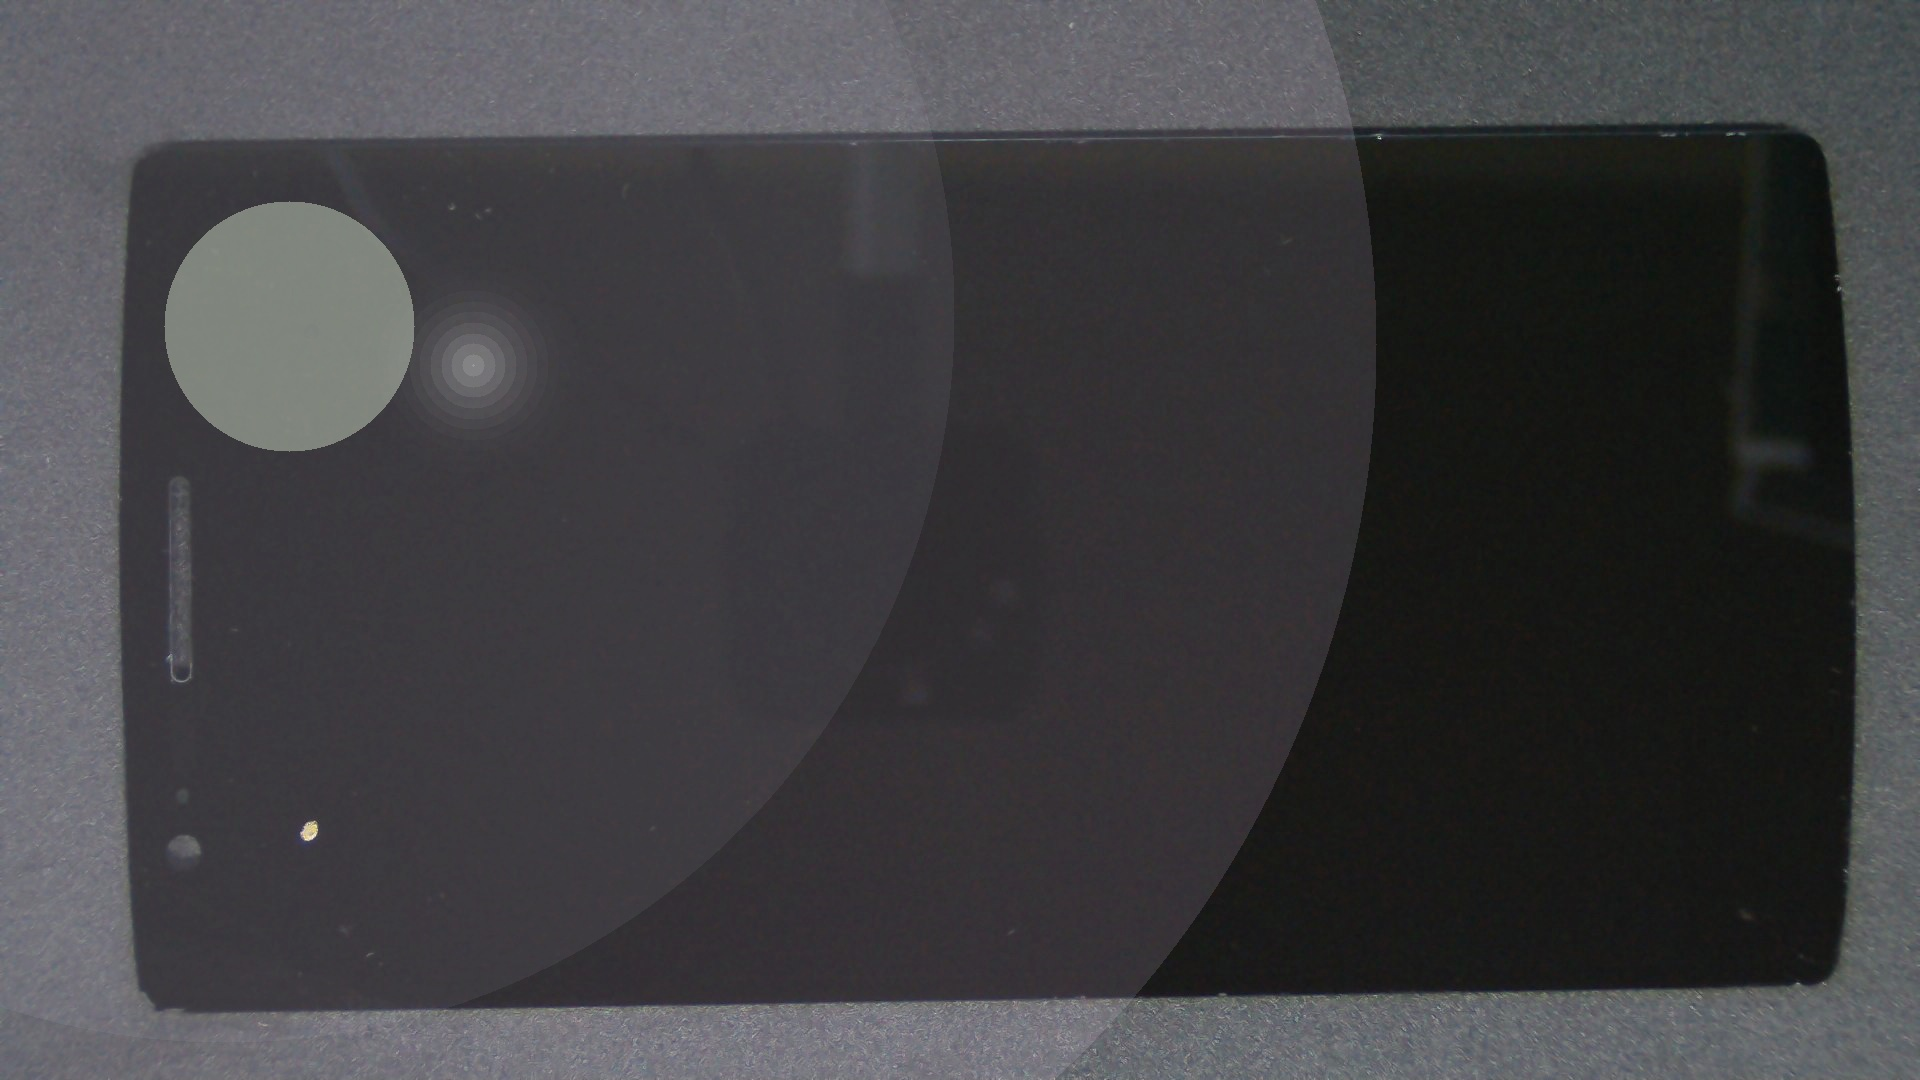oil: (157, 409, 471, 1080)
